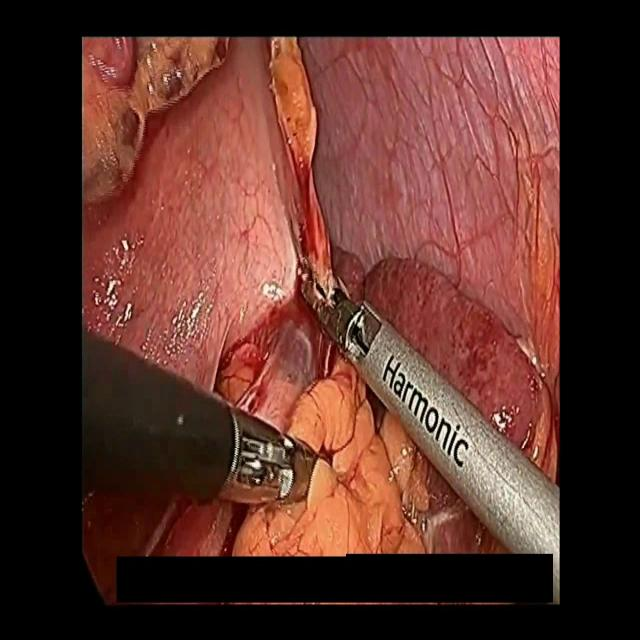surgical-area: (82, 37, 560, 603)
surgical-tool: (294, 244, 560, 604), (82, 326, 320, 503)
